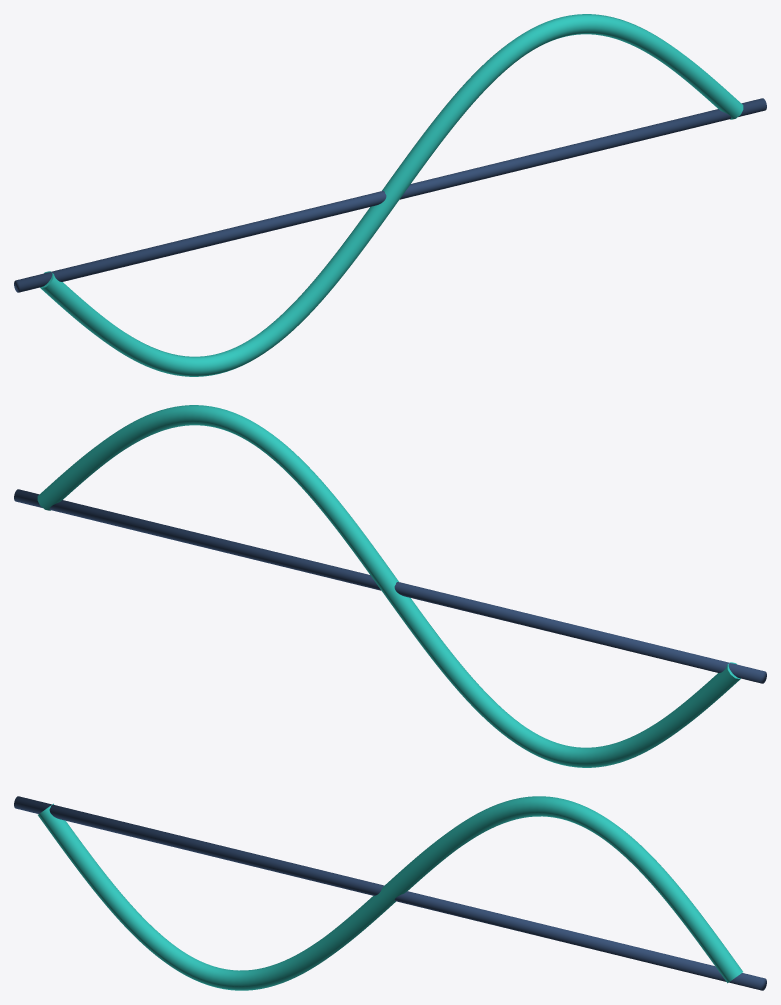
Rendered from sine-curve-quality.glb.
3 views of the same model, one above another, from view 1: azimuth 30°, elevation 25°; view 2: azimuth 150°, elevation 25°; view 3: azimuth 330°, elevation 25° (orthographic).
Parts seen in each view (by area): view 1: Axis; view 2: Axis; view 3: Axis.
Part boxes in pixels (x1,y1,x2,y2): Axis: (14, 14, 766, 376); Axis: (14, 405, 766, 767); Axis: (14, 796, 766, 990).
Bounding box in the file's own units: 3.4 × 1.18 × 0.08.
